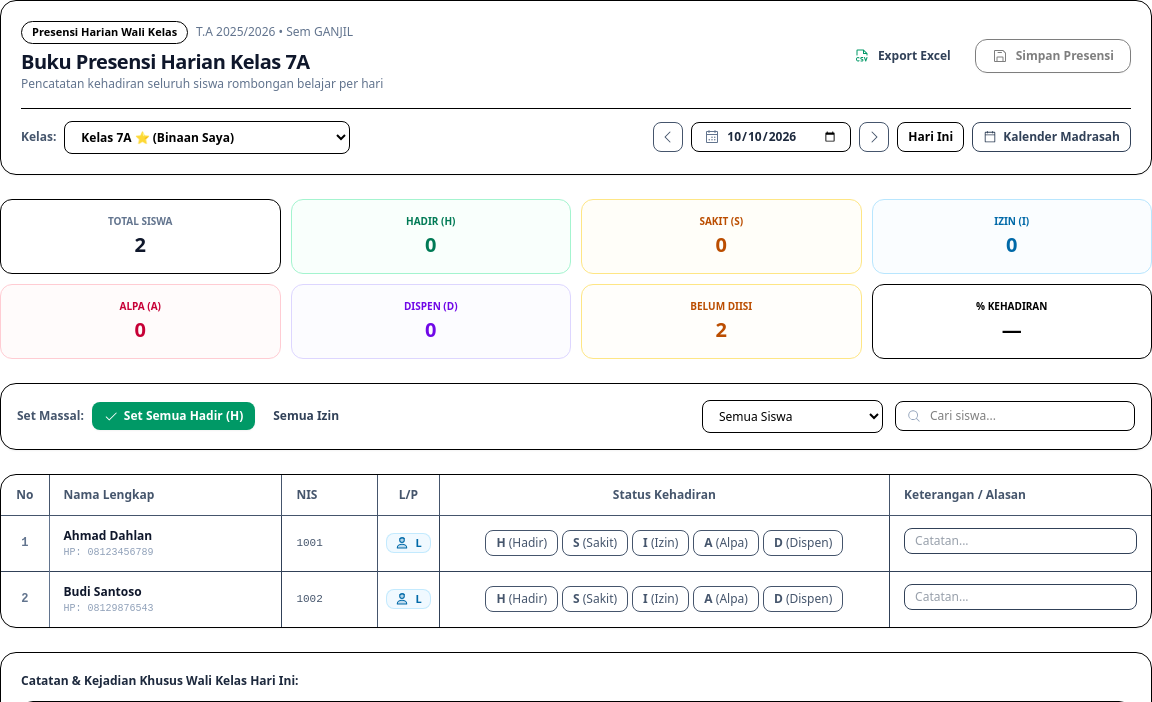
Test: HomeroomDailyAttendancePage UX & Initial-State Implementation › 9. filters by UNSET to show only students without a determined status
Expected: the text "Ahmad Dahlan" is shown, [64,526,152,544]
Note: Mark Ahmad as PRESENT, leave Budi as null
Click the button "H (Hadir)" in the row of "Ahmad Dahlan" at (522, 543), box [485,530,558,556]
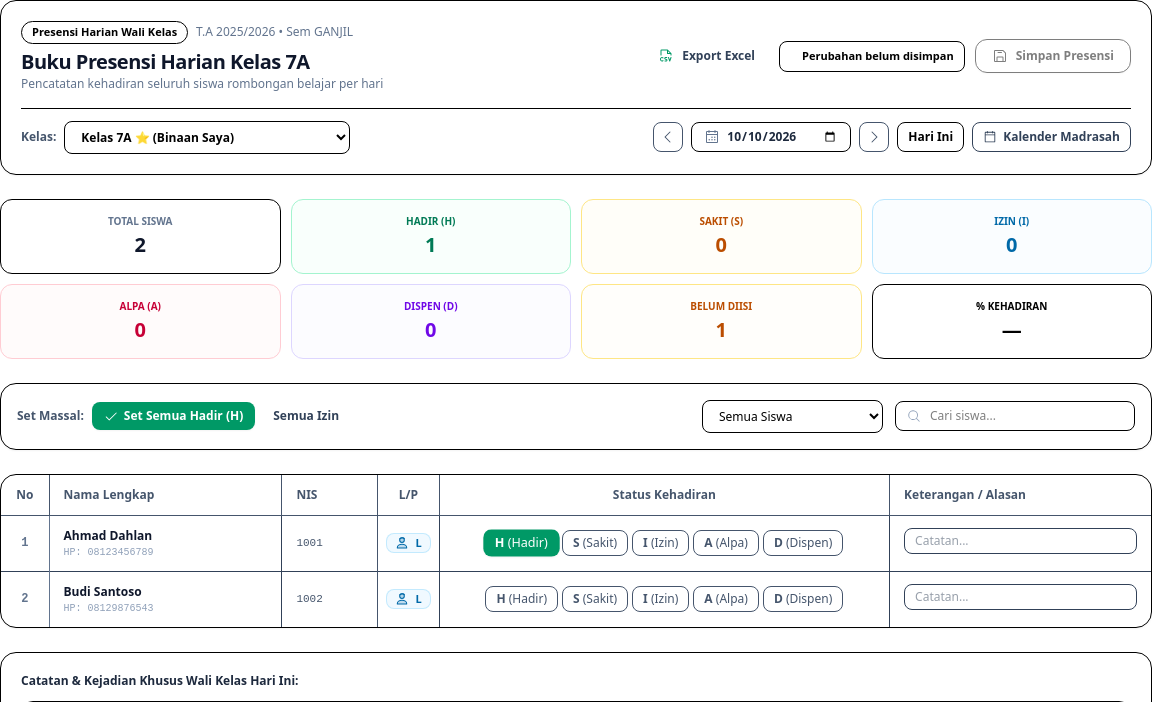
Note: Filter to UNSET (Belum Ditentukan)
Select "Belum Ditentukan" in the 2nd dropdown at (792, 416), box [702,400,883,432]
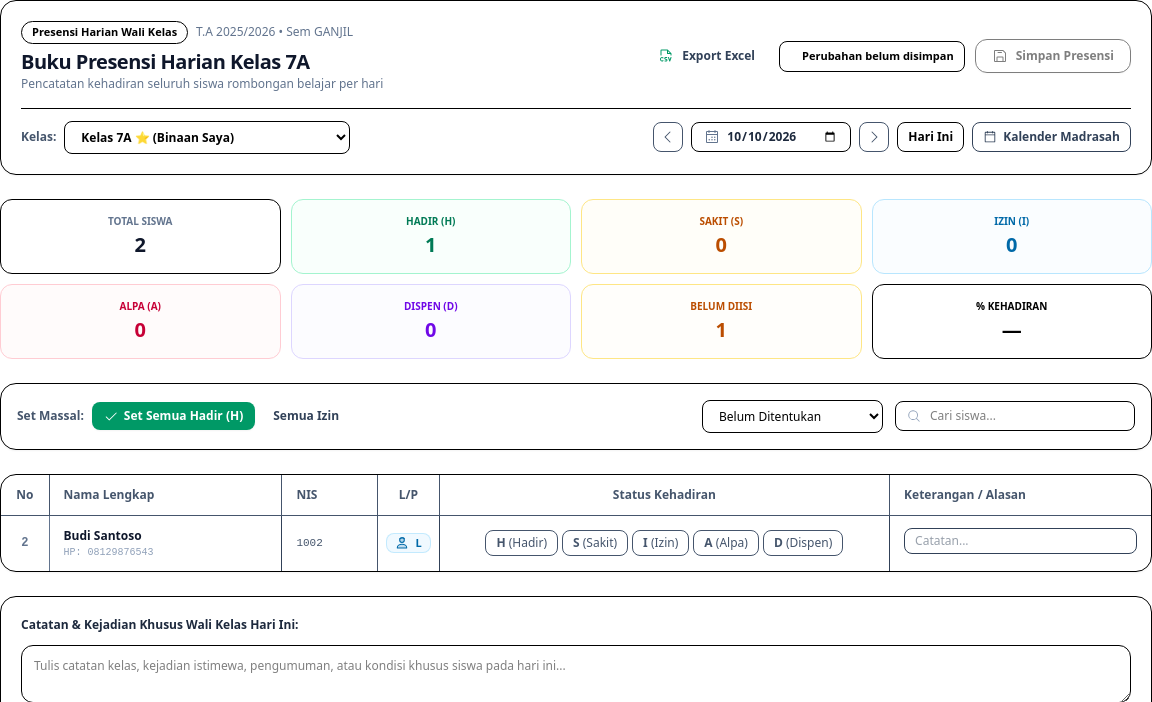
Expected: the text "Budi Santoso" is shown, [64,526,142,544]
Expected: the text "Ahmad Dahlan" is gone
